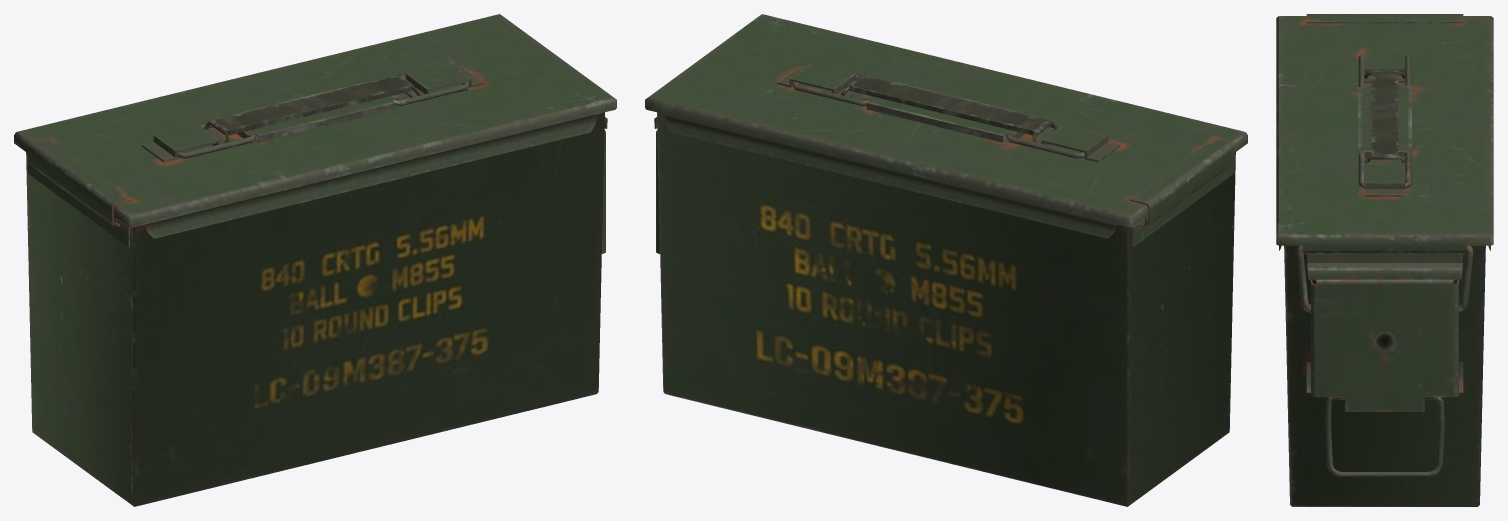
The model's file is ammo_props.glb.
3 views of the same model, side by side, from view 1: azimuth 30°, elevation 25°; view 2: azimuth 150°, elevation 25°; view 3: azimuth 270°, elevation 25° (orthographic). The views are drawn at different scales.
Visible parts, largest first — view 1: AmmoRifle, AmmoPistol; view 2: AmmoRifle, AmmoPistol; view 3: AmmoRifle, AmmoPistol.
Part boxes in pixels (box(x1,y1,x2,y2)): AmmoRifle: box(14, 14, 616, 506); AmmoPistol: box(204, 75, 420, 142); AmmoRifle: box(645, 14, 1247, 506); AmmoPistol: box(841, 75, 1057, 142); AmmoRifle: box(1276, 14, 1493, 506); AmmoPistol: box(1364, 70, 1405, 164).
Bounding box in the file's own units: 0.4 × 0.239 × 0.1633.
Materials: 2 (2 with a texture image).
